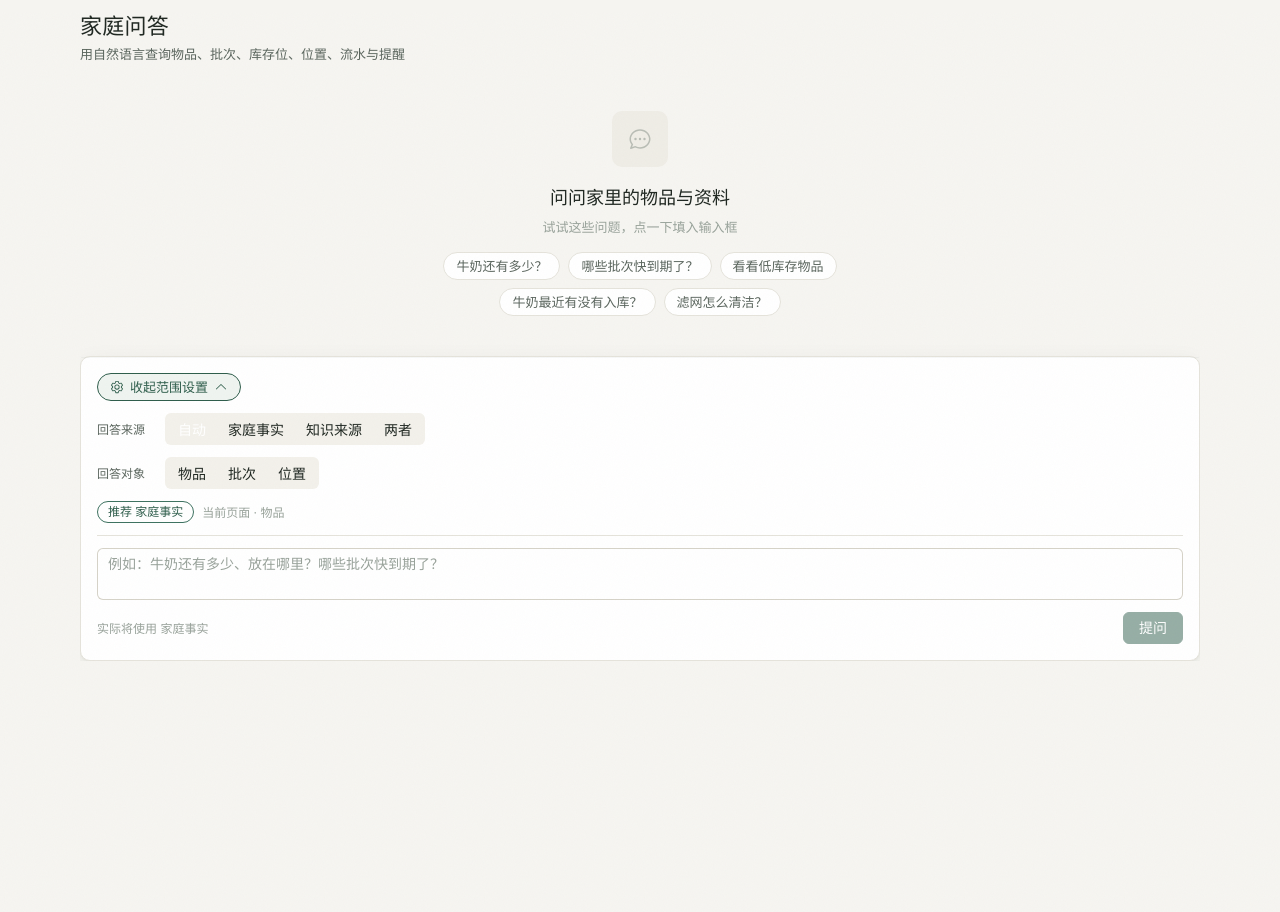
Test: QaView › still allows household-fact questions when status APIs fail
The width and height of the screenshot is (1280, 912).
In the text box with placeholder "例如：牛奶还有多少、放在哪里？哪些批次快到期了？": (640, 574) [97,548,1183,600], type "牛奶还有多少、放在哪里？"
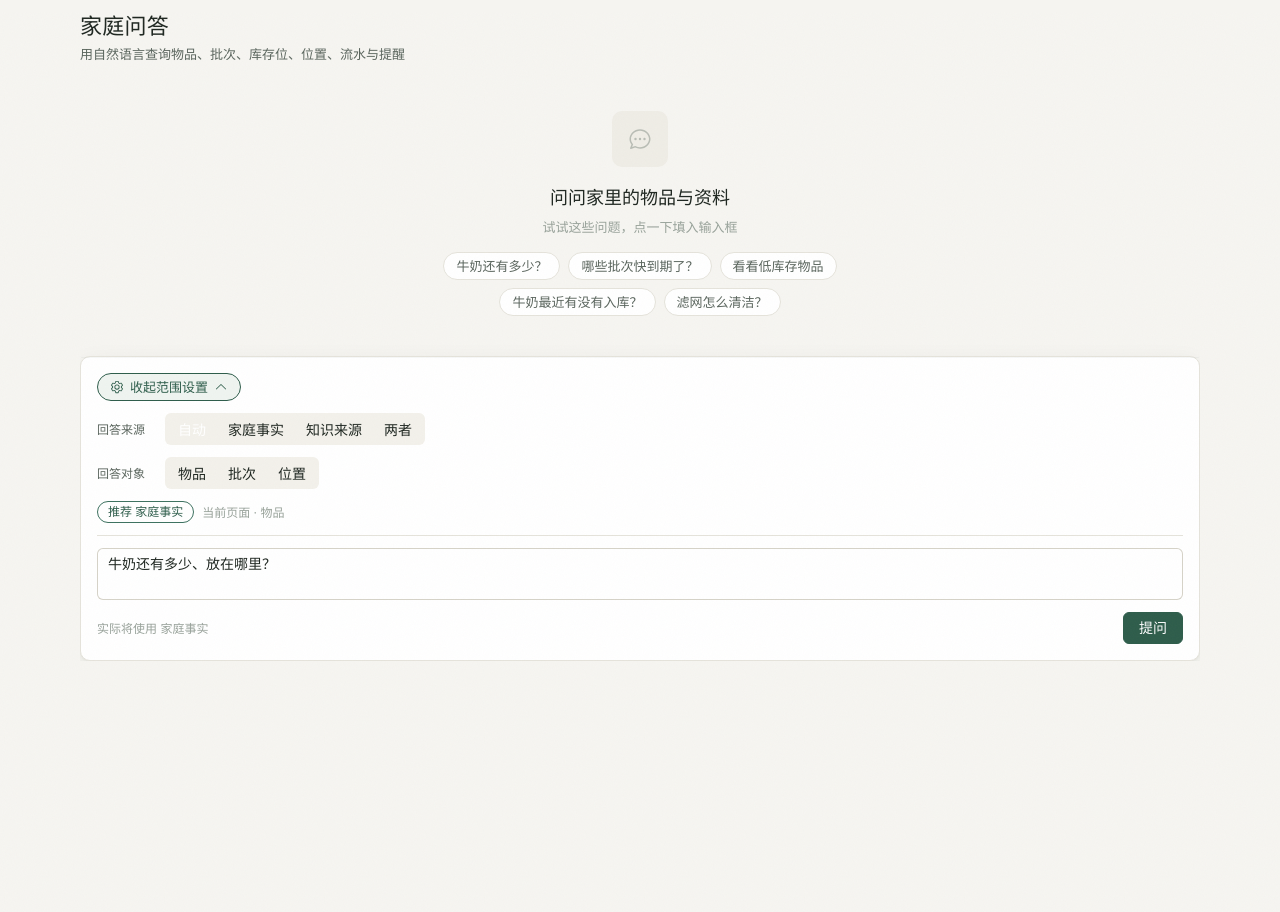
Click the button "提问": (1153, 628) [1123,612,1183,644]
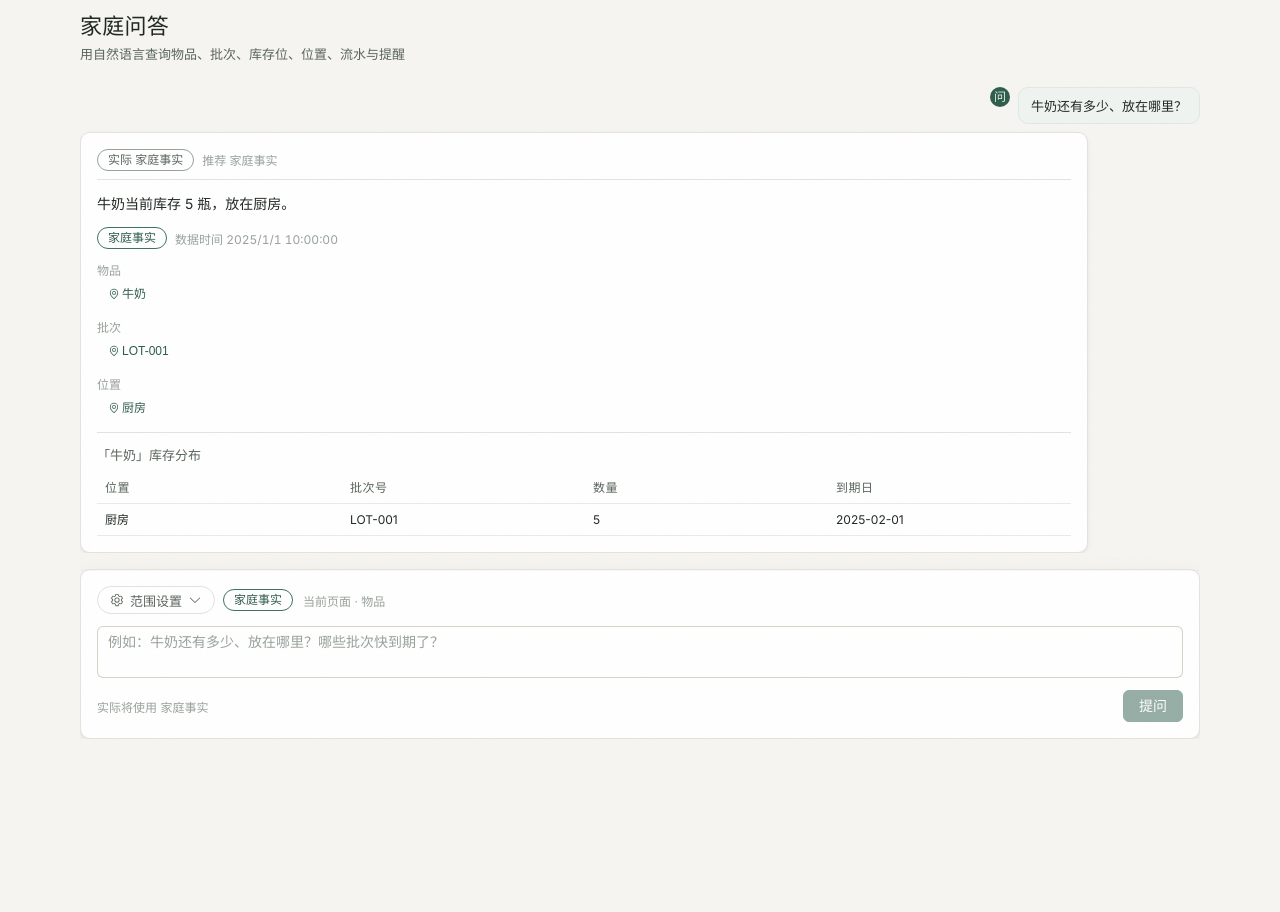
Expected: the text "牛奶当前库存 5 瓶，放在厨房。" is shown, [97,195,295,212]
